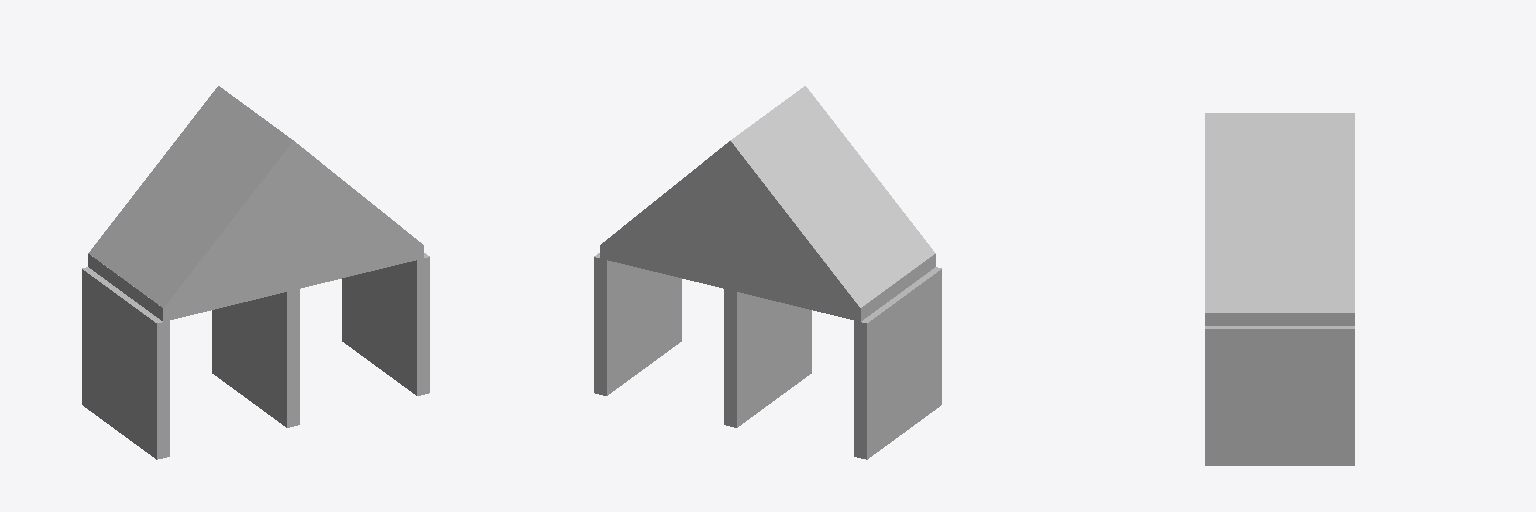
File: simple_house.obj
3 views of the same model, side by side, from view 1: azimuth 30°, elevation 25°; view 2: azimuth 150°, elevation 25°; view 3: azimuth 270°, elevation 25° (orthographic).
Visible parts, largest first — view 1: Cube.005_Cube.006, Cube.001, Cube.002, Cube, Cube.003, Cube.004; view 2: Cube.005_Cube.006, Cube.001, Cube.002, Cube, Cube.003, Cube.004; view 3: Cube.005_Cube.006, Cube.002, Cube.004.
Part boxes in pixels (left/top/right/bottom): Cube.005_Cube.006: left=88, top=86, right=422, bottom=307; Cube.001: left=82, top=267, right=169, bottom=459; Cube.002: left=342, top=253, right=429, bottom=395; Cube: left=212, top=289, right=299, bottom=427; Cube.003: left=88, top=254, right=293, bottom=321; Cube.004: left=294, top=245, right=423, bottom=289; Cube.005_Cube.006: left=601, top=86, right=935, bottom=307; Cube.001: left=854, top=267, right=941, bottom=459; Cube.002: left=594, top=253, right=681, bottom=395; Cube: left=724, top=289, right=811, bottom=427; Cube.003: left=730, top=254, right=935, bottom=321; Cube.004: left=600, top=245, right=729, bottom=289; Cube.005_Cube.006: left=1205, top=113, right=1354, bottom=312; Cube.002: left=1205, top=326, right=1354, bottom=465; Cube.004: left=1205, top=313, right=1354, bottom=325.
Bounding box in the file's own units: 4.2 × 4.2 × 2.